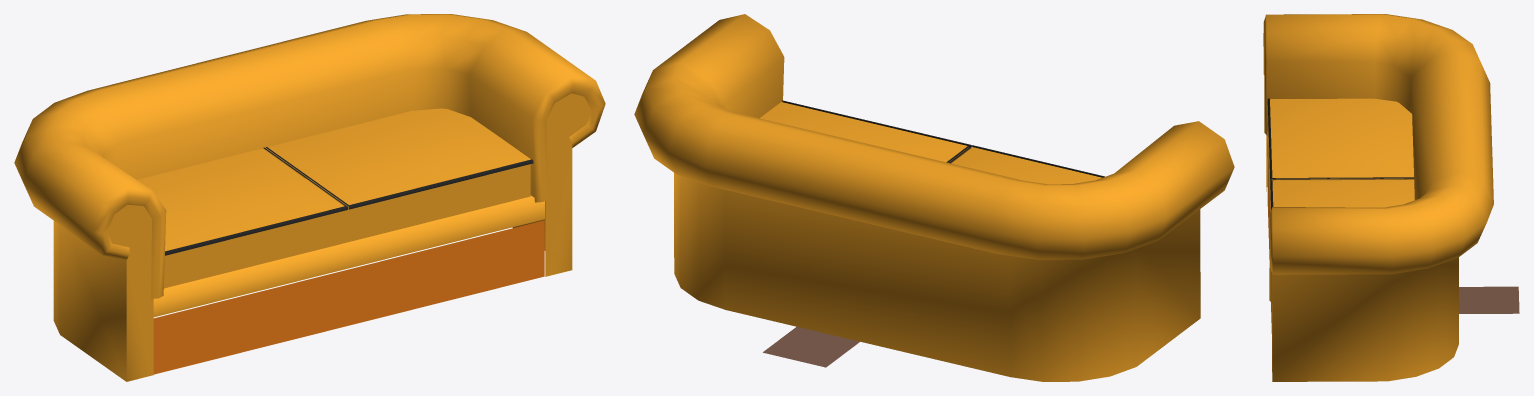
File: Sofa4.fbx
3 views of the same model, side by side, from view 1: azimuth 30°, elevation 25°; view 2: azimuth 150°, elevation 25°; view 3: azimuth 270°, elevation 25° (orthographic). The views are drawn at different scales.
Parts seen in each view (by area): view 1: Sofa4; view 2: Sofa4; view 3: Sofa4.
Boxes of the visible parts, left/top/right/bottom form: Sofa4: left=14, top=14, right=605, bottom=381; Sofa4: left=634, top=14, right=1234, bottom=381; Sofa4: left=1263, top=14, right=1519, bottom=381.
Size of the model in its own units: 83.98 by 30.31 by 40.55.
